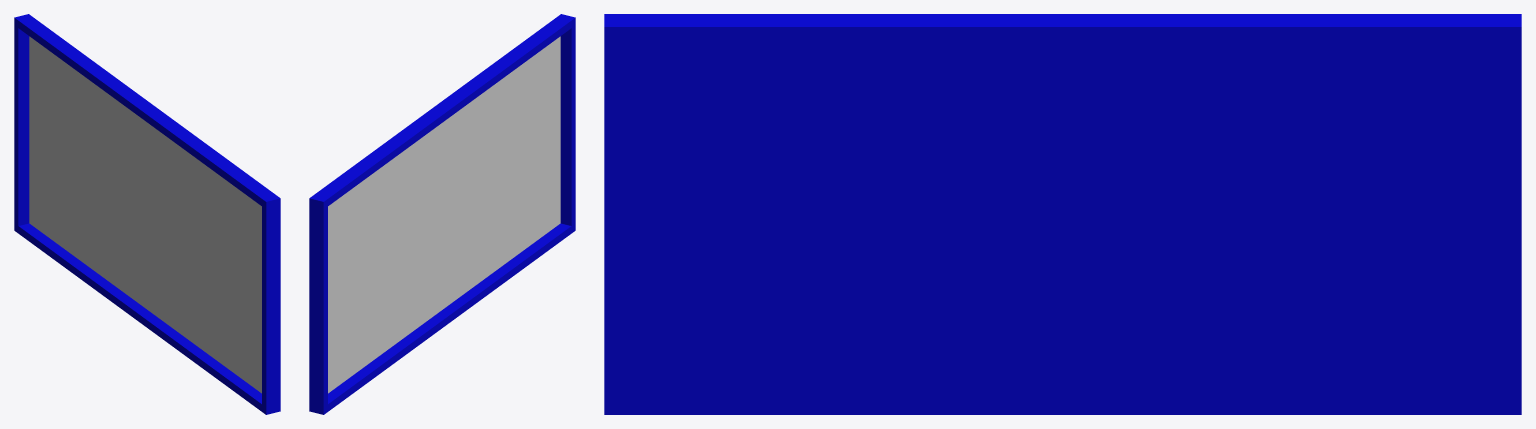
Rendered from LargeFramedSign.fbx.
3 renders of one model, left to right at view 1: azimuth 30°, elevation 25°; view 2: azimuth 150°, elevation 25°; view 3: azimuth 270°, elevation 25°, orthographic. The views are drawn at different scales.
Parts seen in each view (by area): view 1: LargeFramedSign; view 2: LargeFramedSign; view 3: LargeFramedSign.
Part boxes in pixels (bbox=[...]): LargeFramedSign: bbox=[14, 14, 280, 414]; LargeFramedSign: bbox=[309, 14, 575, 414]; LargeFramedSign: bbox=[604, 14, 1521, 414].
Size of the model in its own units: 0.4 by 5.6 by 12.
